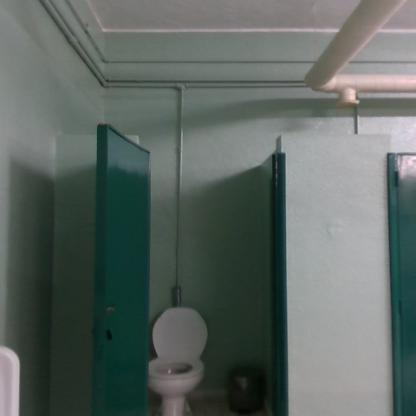open: (78, 109, 300, 416)
